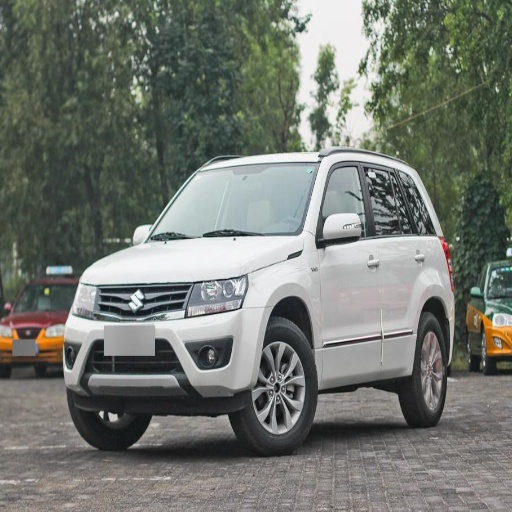back_left_door: (362, 161, 429, 368)
front_bumper: (61, 281, 269, 405)
front_glass: (146, 165, 319, 241)
front_left_door: (315, 159, 381, 377)
